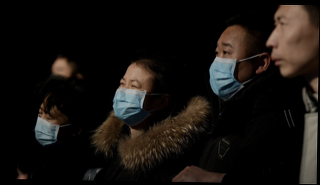with_mask: (208, 41, 256, 99), (112, 75, 151, 120), (34, 110, 65, 145)
without_mask: (265, 14, 315, 77)
